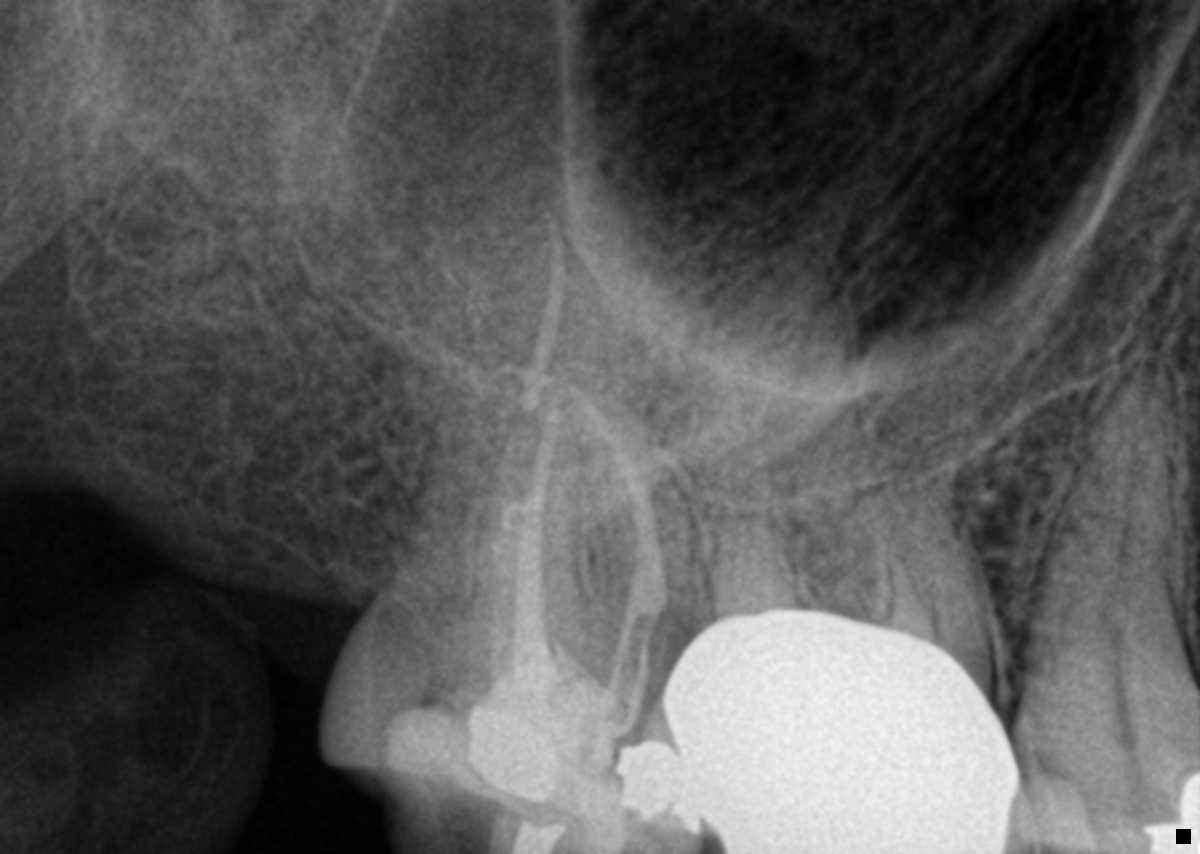Distal Root: (466, 393, 603, 626), (708, 509, 800, 626)
Main Canal: (1097, 374, 1152, 687)
Main Root: (1013, 357, 1194, 696)
Mesial Root: (564, 397, 712, 647), (855, 480, 996, 695)
Palatal Root: (404, 223, 634, 674), (696, 244, 940, 641)
Root Canal Filling: (570, 387, 670, 711), (515, 413, 559, 670)
